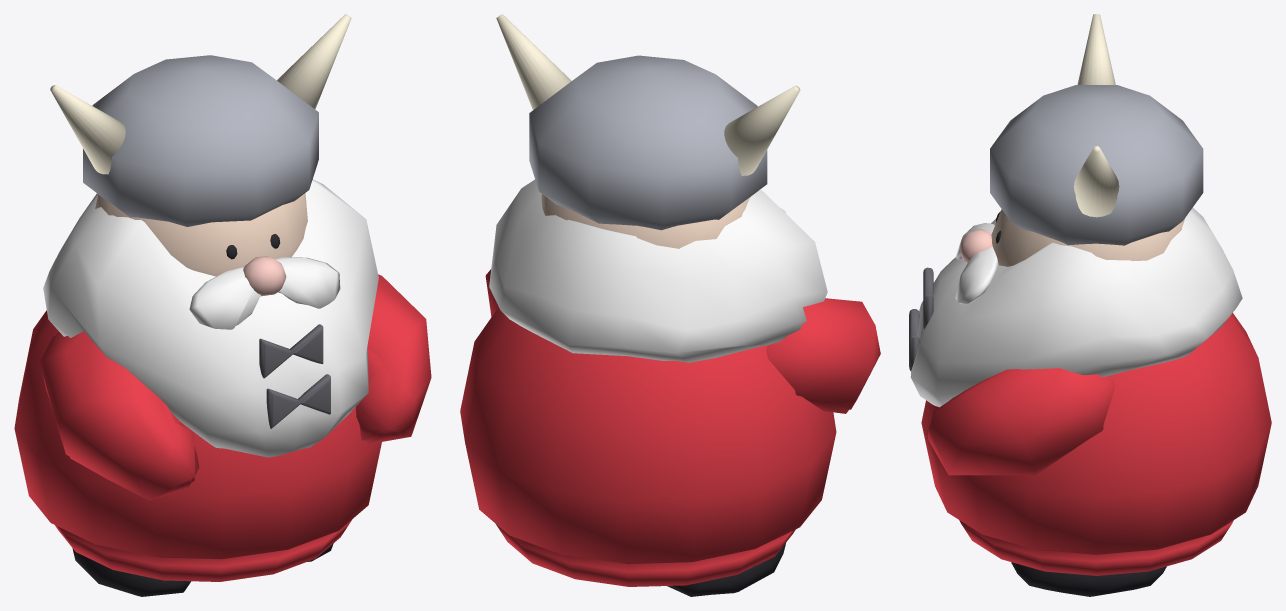
Rendered from viking.glb.
3 views of the same model, side by side, from view 1: azimuth 30°, elevation 25°; view 2: azimuth 150°, elevation 25°; view 3: azimuth 270°, elevation 25° (orthographic). The views are drawn at different scales.
Parts seen in each view (by area): view 1: viking_red, viking_white, viking_grey, viking_skin, viking_cream, viking_darkgrey, viking_black, viking_nose; view 2: viking_red, viking_white, viking_grey, viking_cream, viking_skin, viking_black; view 3: viking_red, viking_white, viking_grey, viking_cream, viking_skin, viking_black, viking_darkgrey, viking_nose.
Boxes of the visible parts, bbox=[...] form: viking_red: bbox=[14, 274, 431, 581]; viking_white: bbox=[43, 179, 378, 457]; viking_grey: bbox=[83, 55, 318, 226]; viking_skin: bbox=[95, 193, 307, 276]; viking_cream: bbox=[50, 14, 351, 174]; viking_darkgrey: bbox=[259, 324, 330, 428]; viking_black: bbox=[72, 234, 333, 596]; viking_nose: bbox=[243, 256, 286, 296]; viking_red: bbox=[460, 269, 880, 586]; viking_white: bbox=[489, 179, 827, 362]; viking_grey: bbox=[529, 55, 767, 230]; viking_cream: bbox=[496, 14, 800, 175]; viking_skin: bbox=[541, 194, 750, 248]; viking_black: bbox=[667, 542, 786, 596]; viking_red: bbox=[921, 313, 1271, 575]; viking_white: bbox=[910, 207, 1242, 407]; viking_grey: bbox=[990, 85, 1203, 245]; viking_cream: bbox=[1074, 14, 1119, 217]; viking_skin: bbox=[991, 209, 1185, 266]; viking_black: bbox=[996, 211, 1166, 596]; viking_darkgrey: bbox=[909, 267, 933, 370]; viking_nose: bbox=[959, 228, 992, 262].
Size of the model in its own units: 2.25 by 2.97 by 2.07.
